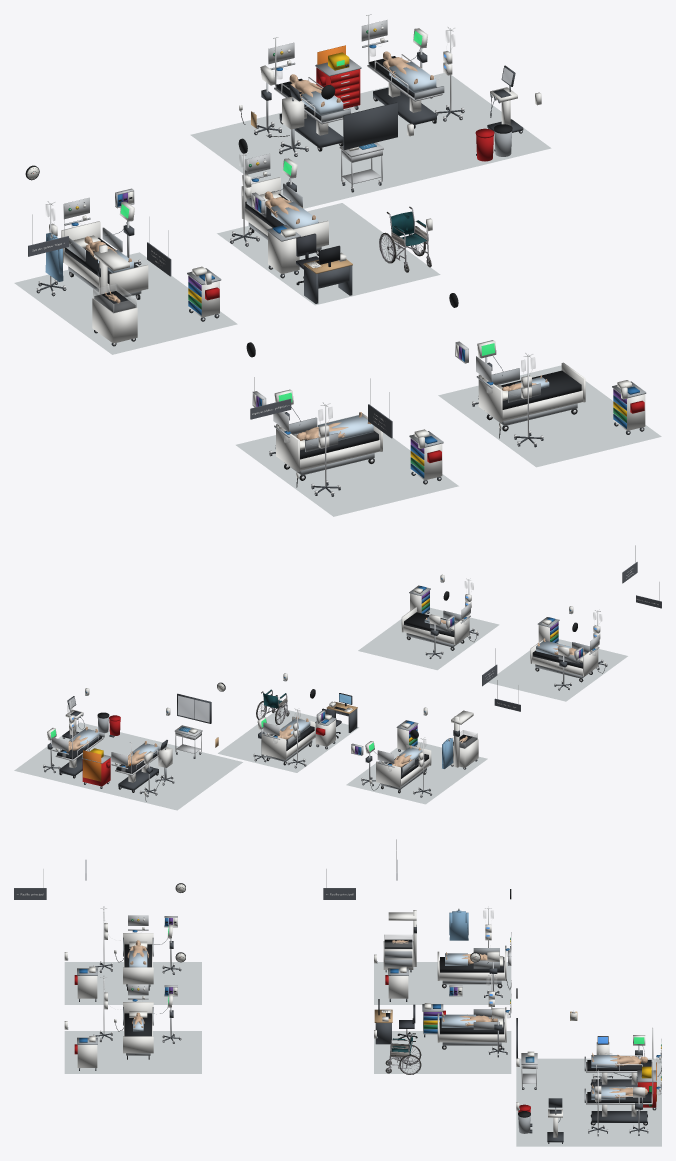
Rendered from 13_n1_urgencias.glb.
3 views of the same model, one above another, from view 1: azimuth 30°, elevation 25°; view 2: azimuth 150°, elevation 25°; view 3: azimuth 270°, elevation 25° (orthographic). The views are drawn at different scales.
Visible parts, largest first — view 1: piso · Atención al politraumatizado y recepción de ambulanci, piso · Urgencias ginecológicas, piso · Urgencias pediátricas, piso · Urgencias adultos, piso · Sala de urgencias · Triage, cama_urgencias.001 (×2), carro_curacion (×4), cama_urgencias.002, cama_urgencias, cuna_radiante, camilla_trauma.001, carro_rojo (+9 smaller); view 2: piso · Atención al politraumatizado y recepción de ambulanci, piso · Urgencias pediátricas, piso · Urgencias adultos, cama_urgencias.001 (×2), piso · Urgencias ginecológicas, piso · Sala de urgencias · Triage, carro_curacion (×4), cama_urgencias.002, cama_urgencias, cuna_radiante, carro_rojo, camilla_trauma.002 (+6 smaller); view 3: piso · Atención al politraumatizado y recepción de ambulanci, piso · Urgencias pediátricas, piso · Sala de urgencias · Triage, piso · Urgencias adultos, piso · Urgencias ginecológicas, cama_urgencias.001 (×2), carro_curacion (×4), cama_urgencias, cama_urgencias.002, cuna_radiante, camilla_trauma.001, camilla_trauma.002 (+6 smaller).
Boxes of the visible parts, bbox=[...] form: piso · Atención al politraumatizado y recepción de ambulanci: bbox=[190, 73, 551, 208]; piso · Urgencias ginecológicas: bbox=[14, 252, 237, 354]; piso · Urgencias pediátricas: bbox=[438, 365, 661, 467]; piso · Urgencias adultos: bbox=[236, 415, 458, 516]; piso · Sala de urgencias · Triage: bbox=[217, 203, 440, 305]; cama_urgencias.001 (×2): bbox=[241, 177, 382, 480]; carro_curacion (×4): bbox=[187, 225, 646, 484]; cama_urgencias.002: bbox=[478, 362, 585, 431]; cama_urgencias: bbox=[61, 221, 148, 299]; cuna_radiante: bbox=[92, 244, 137, 346]; camilla_trauma.001: bbox=[366, 14, 444, 128]; carro_rojo: bbox=[315, 45, 361, 109]; piso · Atención al politraumatizado y recepción de ambulanci: bbox=[14, 722, 242, 810]; piso · Urgencias pediátricas: bbox=[358, 607, 499, 670]; piso · Urgencias adultos: bbox=[488, 639, 627, 701]; cama_urgencias.001 (×2): bbox=[261, 639, 598, 765]; piso · Urgencias ginecológicas: bbox=[346, 742, 487, 804]; piso · Sala de urgencias · Triage: bbox=[218, 708, 358, 772]; carro_curacion (×4): bbox=[315, 585, 559, 751]; cama_urgencias.002: bbox=[401, 607, 469, 650]; cama_urgencias: bbox=[376, 744, 431, 793]; cuna_radiante: bbox=[451, 710, 478, 769]; carro_rojo: bbox=[81, 748, 111, 788]; camilla_trauma.002: bbox=[115, 742, 160, 792]; piso · Atención al politraumatizado y recepción de ambulanci: bbox=[516, 1058, 661, 1146]; piso · Urgencias pediátricas: bbox=[64, 1031, 201, 1073]; piso · Sala de urgencias · Triage: bbox=[374, 1031, 511, 1073]; piso · Urgencias adultos: bbox=[64, 962, 201, 1004]; piso · Urgencias ginecológicas: bbox=[374, 962, 511, 1004]; cama_urgencias.001 (×2): bbox=[123, 933, 506, 1049]; carro_curacion (×4): bbox=[74, 966, 445, 1070]; cama_urgencias: bbox=[437, 945, 506, 988]; cama_urgencias.002: bbox=[123, 1002, 153, 1059]; cuna_radiante: bbox=[383, 910, 416, 972]; camilla_trauma.001: bbox=[584, 1059, 653, 1125]; camilla_trauma.002: bbox=[584, 1027, 653, 1091].
Size of the model in its own units: 15.02 by 3.49 by 19.8.
Materials: 37 (2 with a texture image).
